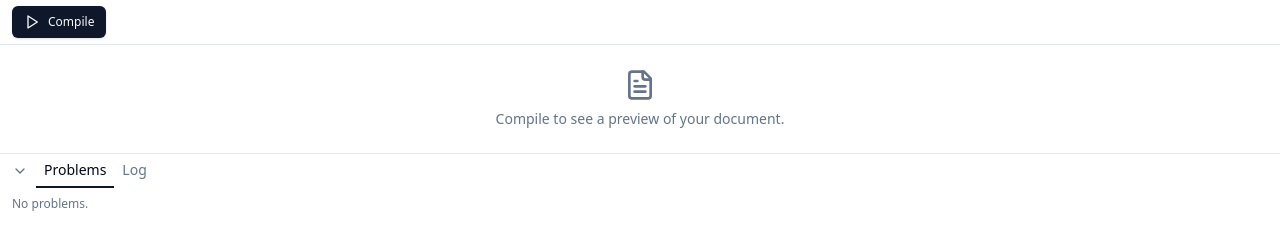
Scenario: PreviewPane (integration) › collapses and re-expands the compile output dock
Expected: the element named "Compile problems" is shown, top-left (12, 195), bottom-right (88, 212)
Click the button named "Collapse compile output" at (20, 171), box top-left (8, 159), bottom-right (32, 183)
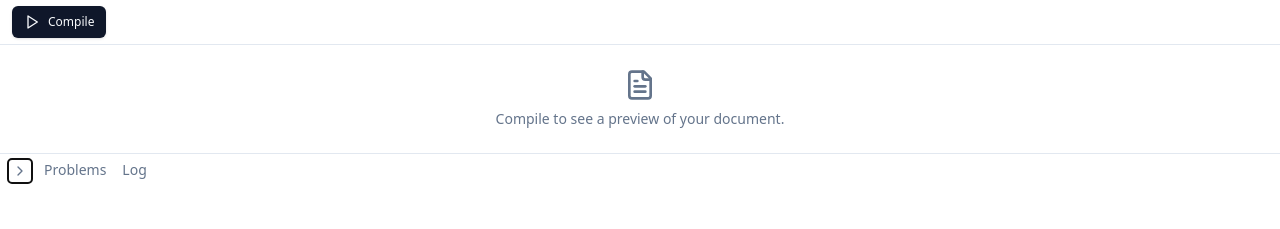
Click the button named "Expand compile output" at (20, 171), box top-left (8, 159), bottom-right (32, 183)
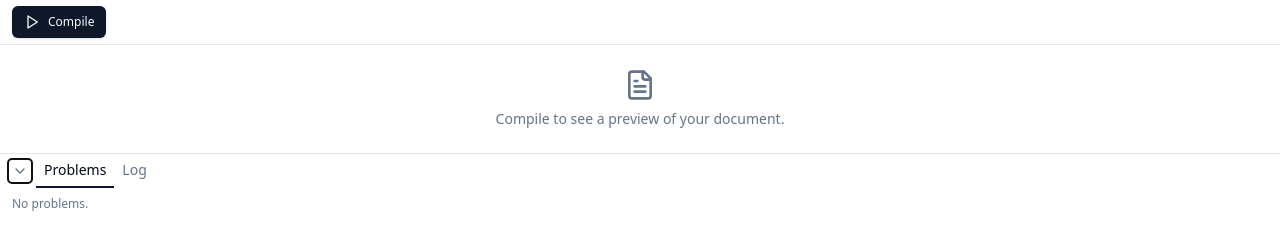
Now the element named "Compile problems" is shown, box top-left (12, 195), bottom-right (88, 212)
